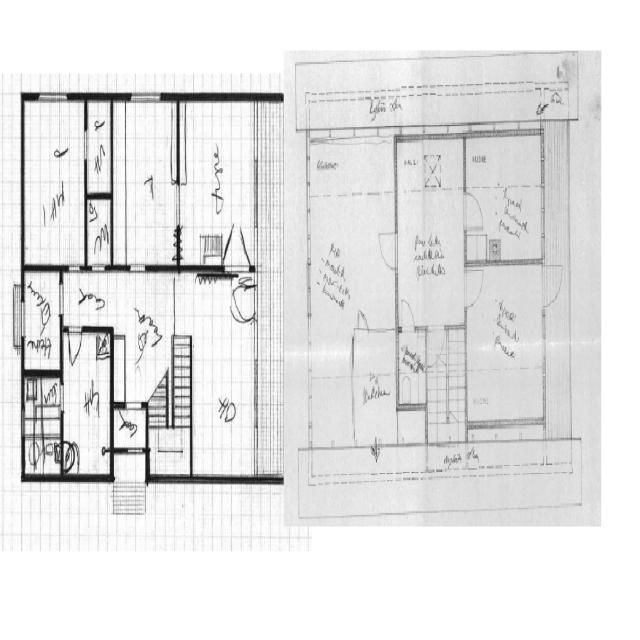door: (397, 315, 426, 405), (462, 262, 487, 310), (540, 260, 564, 310), (376, 226, 400, 274), (462, 187, 485, 236), (426, 325, 446, 369), (398, 293, 416, 334), (353, 304, 371, 343), (67, 325, 83, 367), (78, 127, 89, 166)
window: (492, 119, 539, 141), (496, 252, 542, 272), (36, 85, 70, 106), (129, 88, 163, 108), (172, 178, 184, 232), (16, 293, 26, 348), (367, 324, 398, 341), (127, 260, 148, 278), (89, 260, 108, 276), (66, 262, 82, 277)
zone: (148, 266, 256, 477), (306, 140, 396, 343), (396, 139, 466, 330), (465, 262, 545, 429), (180, 98, 254, 270), (22, 93, 87, 269), (112, 97, 178, 267), (465, 134, 544, 262), (63, 326, 113, 478), (353, 328, 398, 449), (310, 340, 353, 454), (22, 268, 62, 375), (23, 375, 63, 469), (86, 97, 112, 195), (396, 329, 426, 407), (86, 194, 112, 270), (112, 403, 145, 449), (396, 406, 426, 446)
